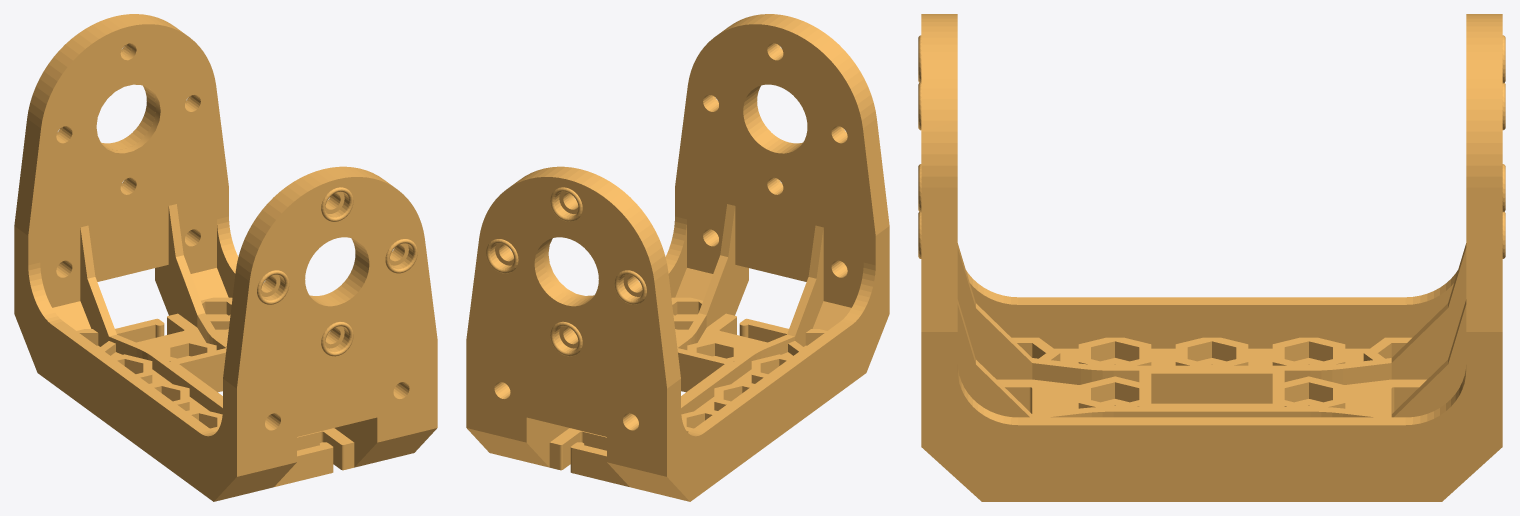
3 renders of one model, left to right at view 1: azimuth 30°, elevation 25°; view 2: azimuth 150°, elevation 25°; view 3: azimuth 270°, elevation 25°, orthographic. The views are drawn at different scales.
Visible parts, largest first — view 1: mesh_1_F2; view 2: mesh_1_F2; view 3: mesh_1_F2.
Part boxes in pixels (x1,y1,x2,y2): mesh_1_F2: [14, 14, 437, 501]; mesh_1_F2: [466, 14, 889, 501]; mesh_1_F2: [918, 14, 1505, 501].
Size of the model in its own units: 0.025 by 0.0485 by 0.0375.
